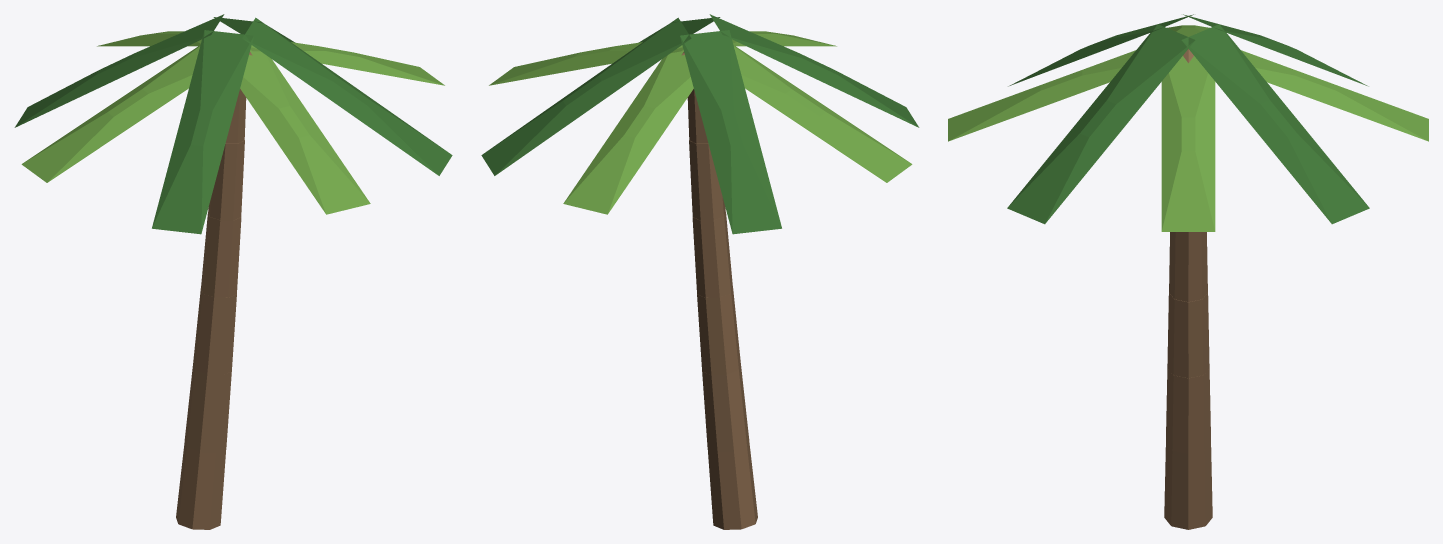
File: VG_Tree_Palm.fbx
3 views of the same model, side by side, from view 1: azimuth 30°, elevation 25°; view 2: azimuth 150°, elevation 25°; view 3: azimuth 270°, elevation 25° (orthographic). The views are drawn at different scales.
Parts seen in each view (by area): view 1: VG_Tree_Palm_Mesh; view 2: VG_Tree_Palm_Mesh; view 3: VG_Tree_Palm_Mesh.
Boxes of the visible parts, x1,y1,x2,y2 form: VG_Tree_Palm_Mesh: (14, 14, 452, 529); VG_Tree_Palm_Mesh: (481, 14, 919, 529); VG_Tree_Palm_Mesh: (948, 14, 1428, 529).
Bounding box in the file's own units: 5.55 × 6.5 × 5.55.
